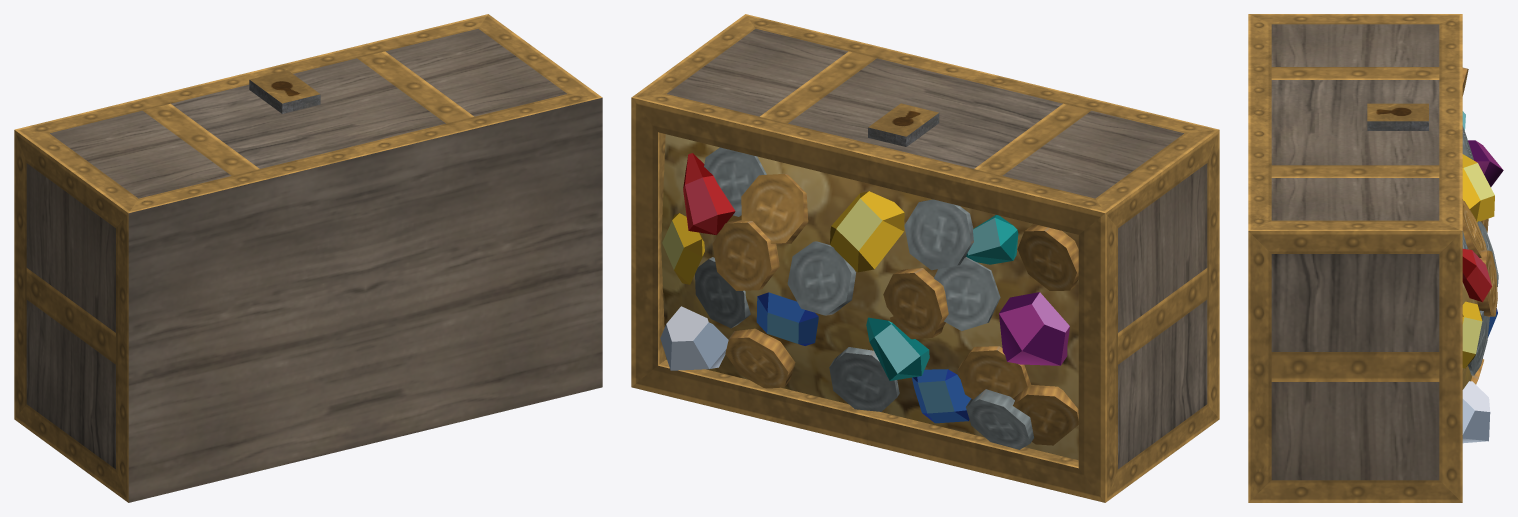
Rendered from Chest_B_Gold_Treasure_Bottom.fbx.
The picture shows the model from 3 angles, left to right: view 1: azimuth 30°, elevation 25°; view 2: azimuth 150°, elevation 25°; view 3: azimuth 270°, elevation 25°; orthographic projection. The views are drawn at different scales.
Parts seen in each view (by area): view 1: Chest_B_Gold_Treasure_Bottom; view 2: Chest_B_Gold_Treasure_Bottom; view 3: Chest_B_Gold_Treasure_Bottom.
Part boxes in pixels (bbox=[...]): Chest_B_Gold_Treasure_Bottom: bbox=[14, 14, 602, 502]; Chest_B_Gold_Treasure_Bottom: bbox=[631, 14, 1219, 502]; Chest_B_Gold_Treasure_Bottom: bbox=[1248, 14, 1503, 502].
Bounding box in the file's own units: 1.25 × 0.7533 × 0.6193.
